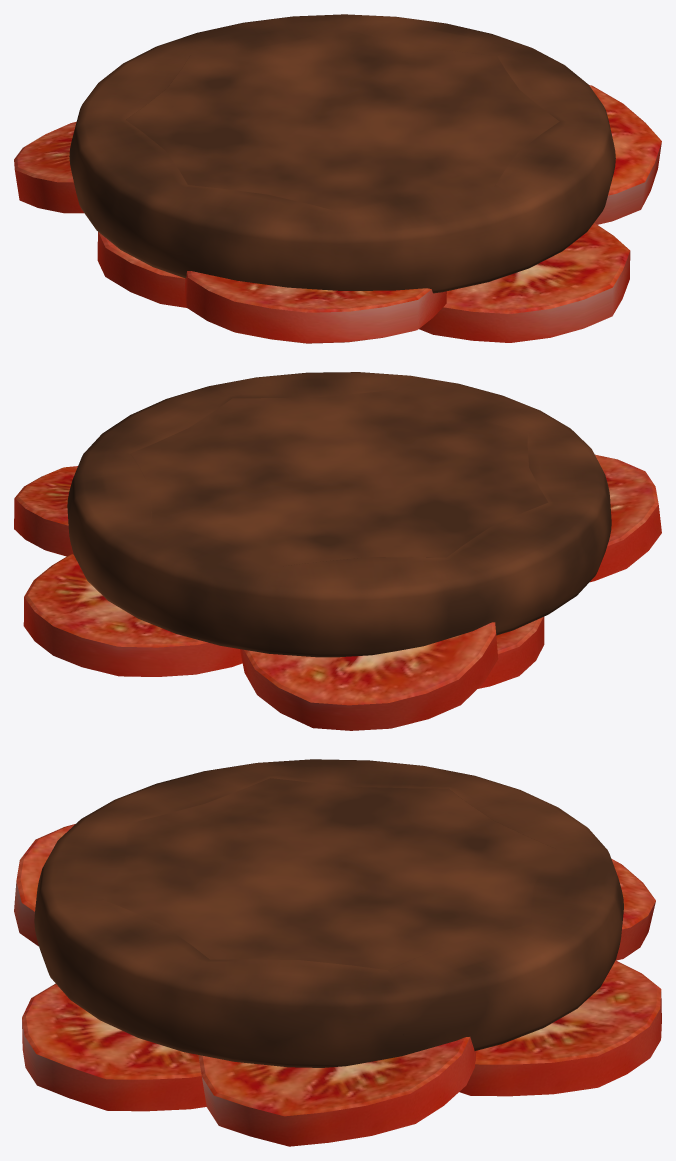
The model's file is tomato-meat.glb.
3 views of the same model, one above another, from view 1: azimuth 30°, elevation 25°; view 2: azimuth 150°, elevation 25°; view 3: azimuth 270°, elevation 25° (orthographic). The views are drawn at different scales.
Visible parts, largest first — view 1: meat, pCylinder19_9; view 2: meat, pCylinder19_9; view 3: meat, pCylinder19_9.
Part boxes in pixels (<box>): meat: <box>69,14,615,293</box>; pCylinder19_9: <box>14,85,661,343</box>; meat: <box>67,372,611,657</box>; pCylinder19_9: <box>14,454,661,730</box>; meat: <box>34,759,623,1067</box>; pCylinder19_9: <box>14,824,661,1146</box>.
Size of the model in its own units: 1.01 by 0.2395 by 0.9781.
3 materials, 3 textured.
